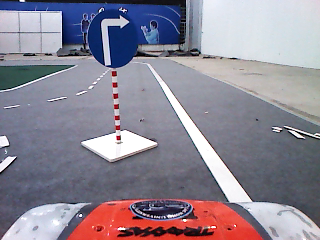turn: (85, 9, 140, 70)
